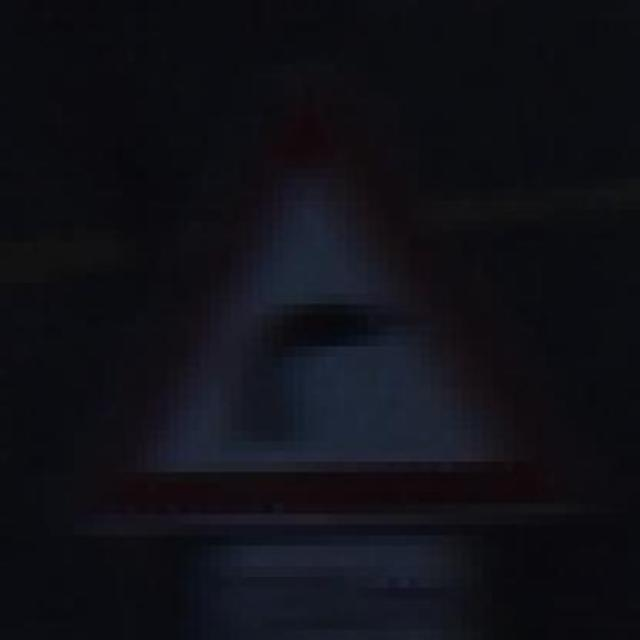Dangerous Rright Curve Ahead: (115, 84, 577, 567)
